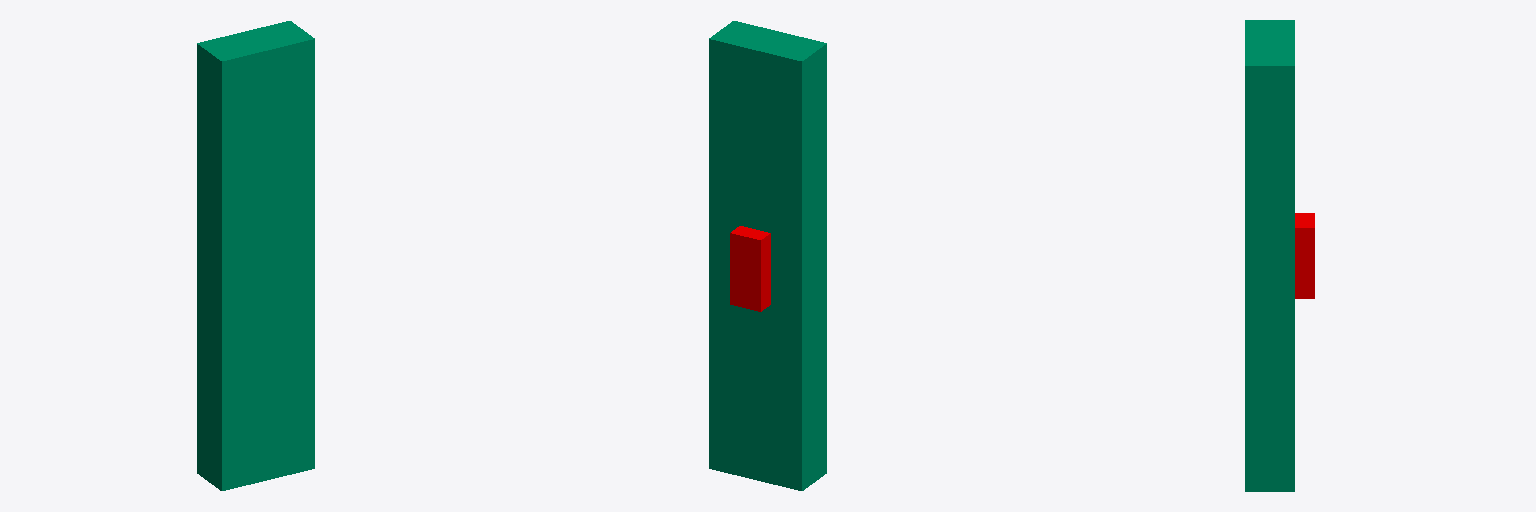
URDF robot description (knife):
<?xml version='1.0' encoding='utf-8'?>
<robot name="knife">
  <link name="base" /><joint name="joint_0" type="fixed"><origin xyz="0 0 0" rpy="0 0 0" /><parent link="base" /><child link="link_0" /></joint><link name="link_1">
    <visual name="link_1">
      <origin xyz="0 0.009172 0" rpy="0 0 0" />
      <geometry>
        <box size="0.009289434004131483 0.005255724357080884 0.020631304922795954" /></geometry>
    <material name="red"><color rgba="1 0 0 1" /></material></visual>
    <collision>
      <origin xyz="0 0.009172 0" rpy="0 0 0" />
      <geometry>
        <box size="0.009289434004131483 0.005255724357080884 0.020631304922795954" /></geometry>
    </collision>
    </link>
  <joint name="joint_1" type="prismatic">
    <origin xyz="0 0 0" />
    <axis xyz="0 0 1" />
    <child link="link_1" />
    <parent link="link_0" />
    <limit lower="-0.028791" upper="0.021209" effort="100.0" velocity="1.0" />
  </joint>
  <link name="link_0">
    <visual name="link_0">
      <origin xyz="0 0 0" />
      <geometry>
        <box size="0.02816036183821751 0.01308920666483293 0.12373218814737329" /></geometry>
    </visual>
    <collision>
      <origin xyz="0 0 0" />
      <geometry>
        <box size="0.02816036183821751 0.01308920666483293 0.12373218814737329" /></geometry>
    </collision>
    </link>
</robot>

--- What the picture shows (computed from the rendered views, not written in the file) ---
Views: 3 orthographic renders of the robot side by side, from view 1: azimuth 30°, elevation 25°; view 2: azimuth 150°, elevation 25°; view 3: azimuth 270°, elevation 25°.
Robot: knife — 3 links, 2 joints (1 prismatic, 1 fixed); root link base; default pose: every joint at zero.
Visible links, largest first — view 1: link_0; view 2: link_0, link_1; view 3: link_0, link_1.
Boxes of the visible links, x1,y1,x2,y2 form: link_0: (197, 21, 314, 490); link_0: (709, 21, 826, 490); link_1: (730, 226, 770, 311); link_0: (1245, 20, 1294, 491); link_1: (1295, 213, 1314, 298).
Size in the robot's own frame: 0.0282 by 0.0183 by 0.1237 metres.
Geometry: primitives only (box / cylinder / sphere), no mesh files.
